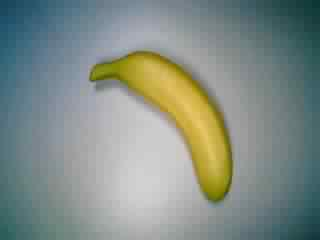banana: (88, 44, 240, 203)
